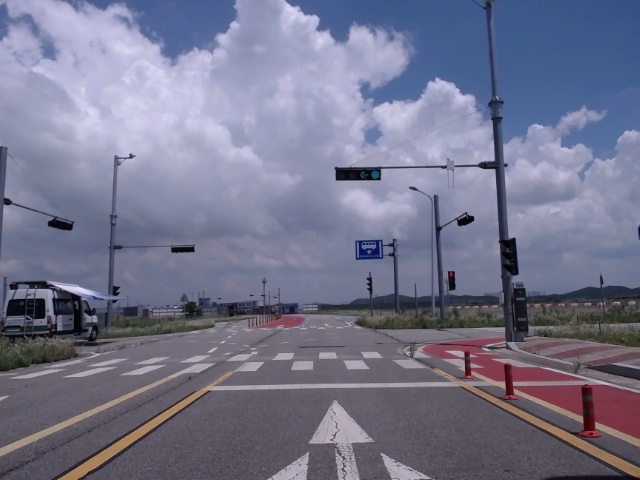all_green_4: (333, 165, 379, 179)
